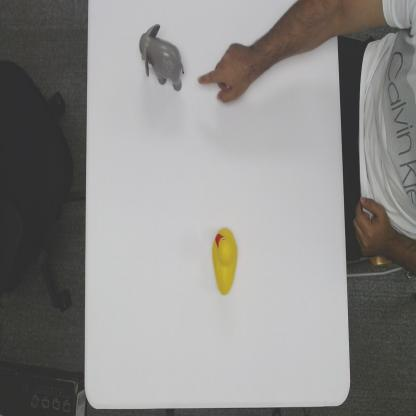Arm: (248, 0, 336, 72)
Duck: (210, 226, 239, 296)
Elephant: (138, 22, 184, 93)
Hand: (197, 39, 250, 108)
